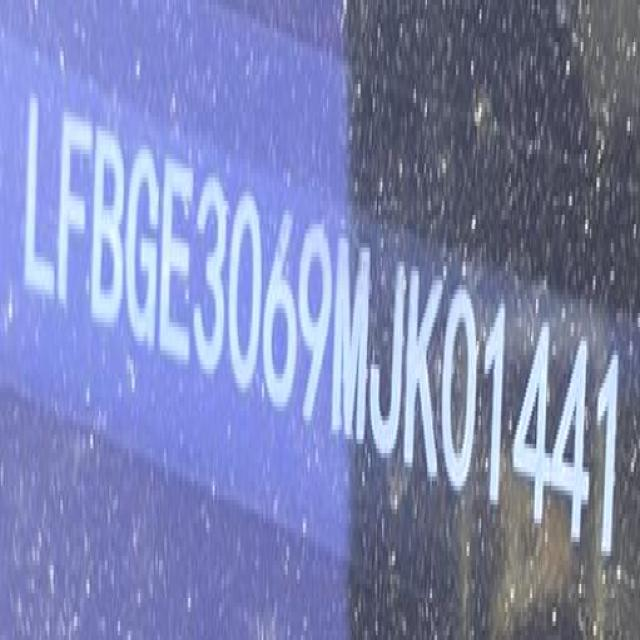0: (445, 276, 480, 500), (230, 186, 263, 398)
1: (484, 290, 508, 516), (599, 341, 621, 567)
3: (196, 170, 228, 386)
4: (552, 322, 592, 552), (514, 308, 553, 536)
6: (267, 204, 300, 417)
9: (300, 214, 334, 436)
B: (93, 122, 126, 335)
E: (160, 153, 194, 373)
F: (58, 108, 90, 324)
G: (127, 138, 160, 354)
J: (369, 254, 406, 464)
K: (408, 258, 442, 490)
L: (22, 86, 57, 315)
M: (333, 228, 370, 462)
